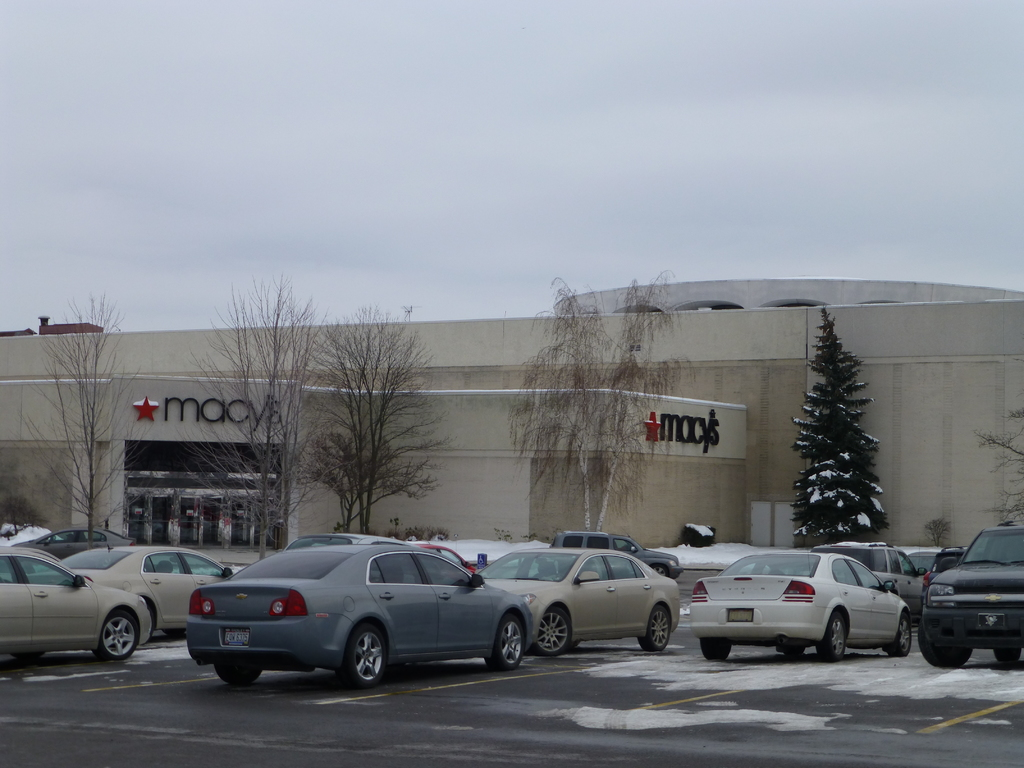Car: (184, 542, 535, 694), (688, 542, 921, 661), (476, 544, 682, 661), (0, 542, 155, 666), (57, 540, 238, 636), (912, 520, 1023, 666)
